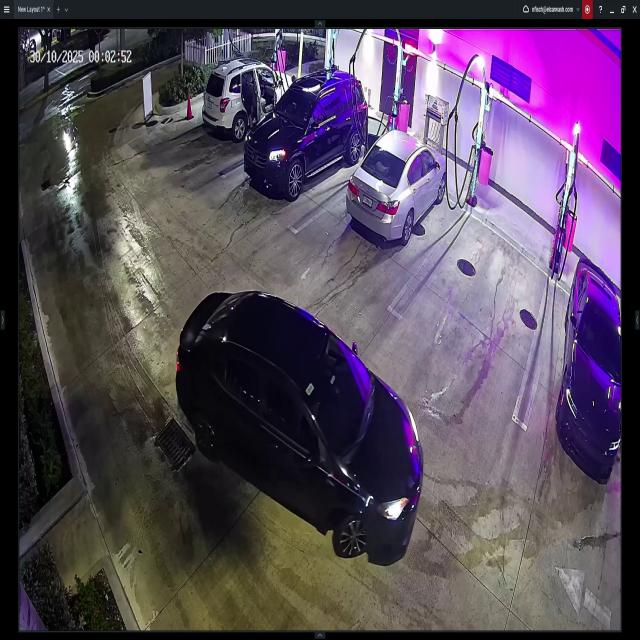Car: (173, 291, 426, 565), (243, 73, 368, 200), (558, 254, 622, 478), (348, 130, 448, 241), (204, 61, 294, 143)
